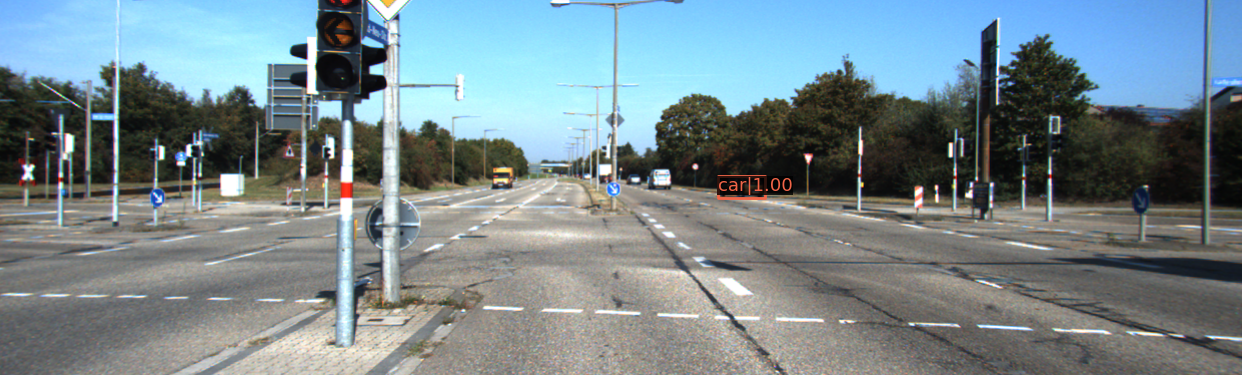car: (718, 176, 763, 199)
